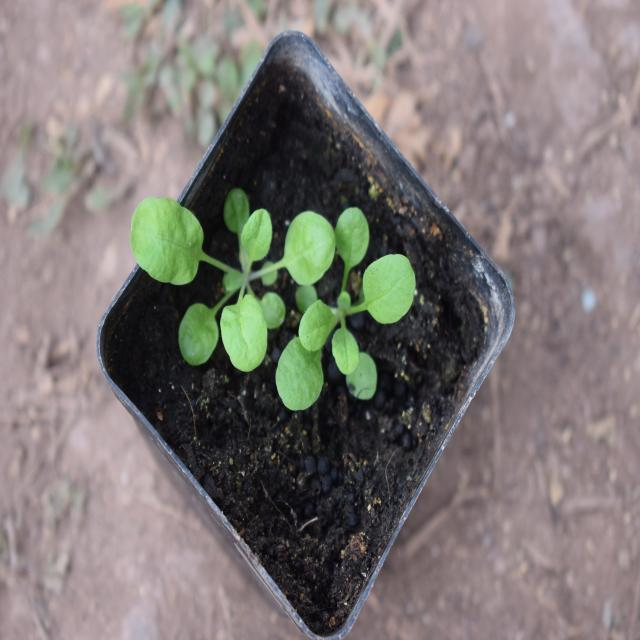Shepherd_Purse: (116, 184, 295, 406), (260, 175, 412, 416)
